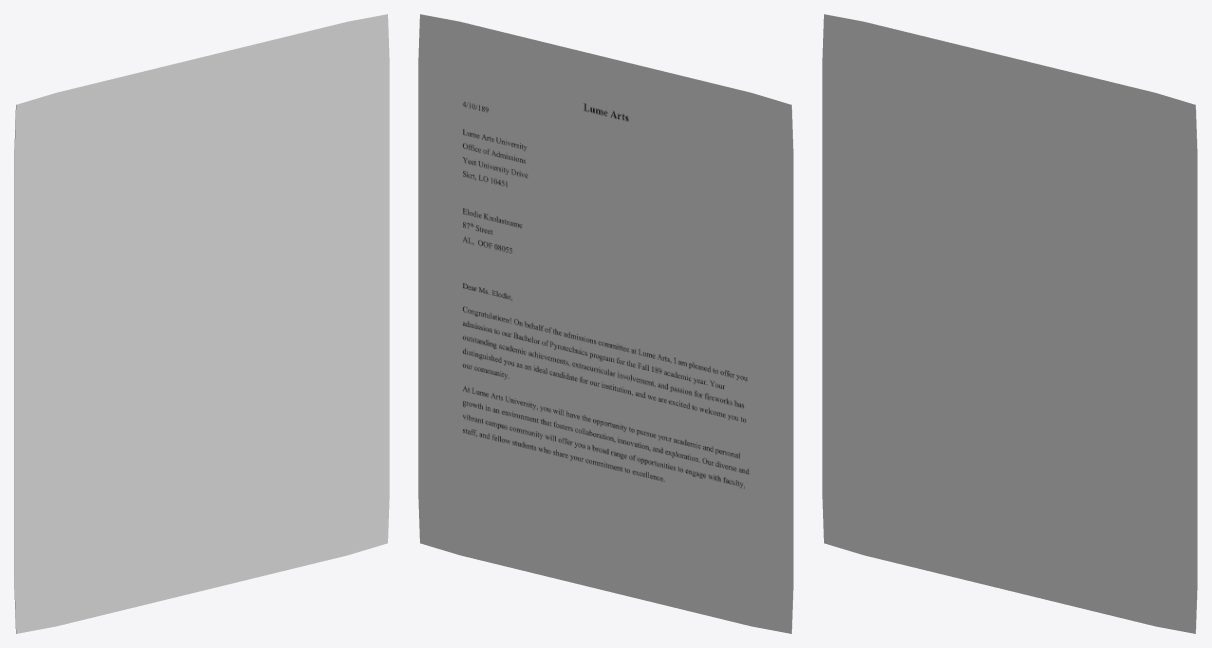
Rendered from acceptance_letter.fbx.
The picture shows the model from 3 angles, left to right: view 1: azimuth 30°, elevation 25°; view 2: azimuth 150°, elevation 25°; view 3: azimuth 330°, elevation 25°; orthographic projection.
Visible parts, largest first — view 1: Plane.001; view 2: Plane.001; view 3: Plane.001.
Boxes of the visible parts, <box> form: Plane.001: <box>14,14,389,633</box>; Plane.001: <box>418,14,793,633</box>; Plane.001: <box>822,14,1197,633</box>.
Bounding box in the file's own units: 2 × 2.72 × 0.003.
1 material, 1 textured.
